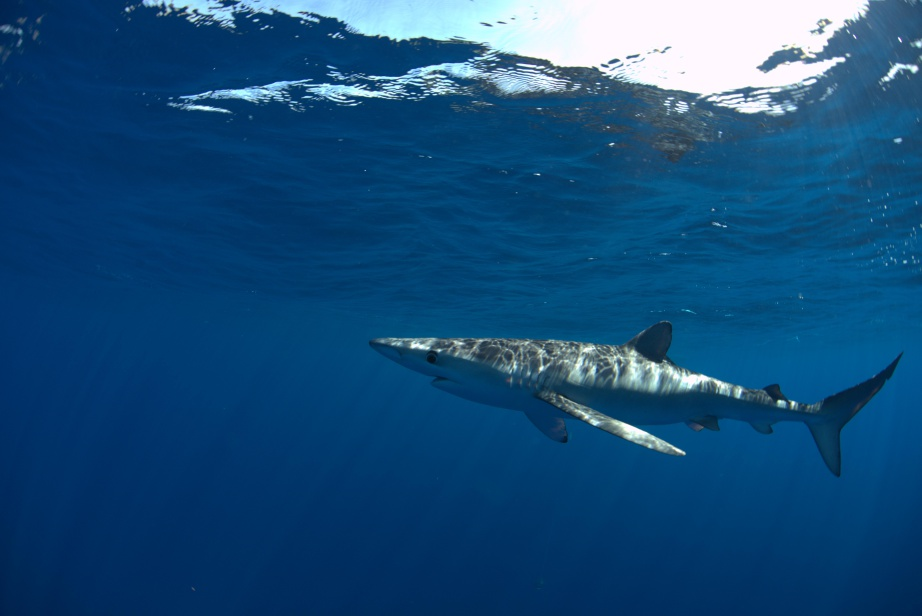Azul: (334, 291, 902, 483)
